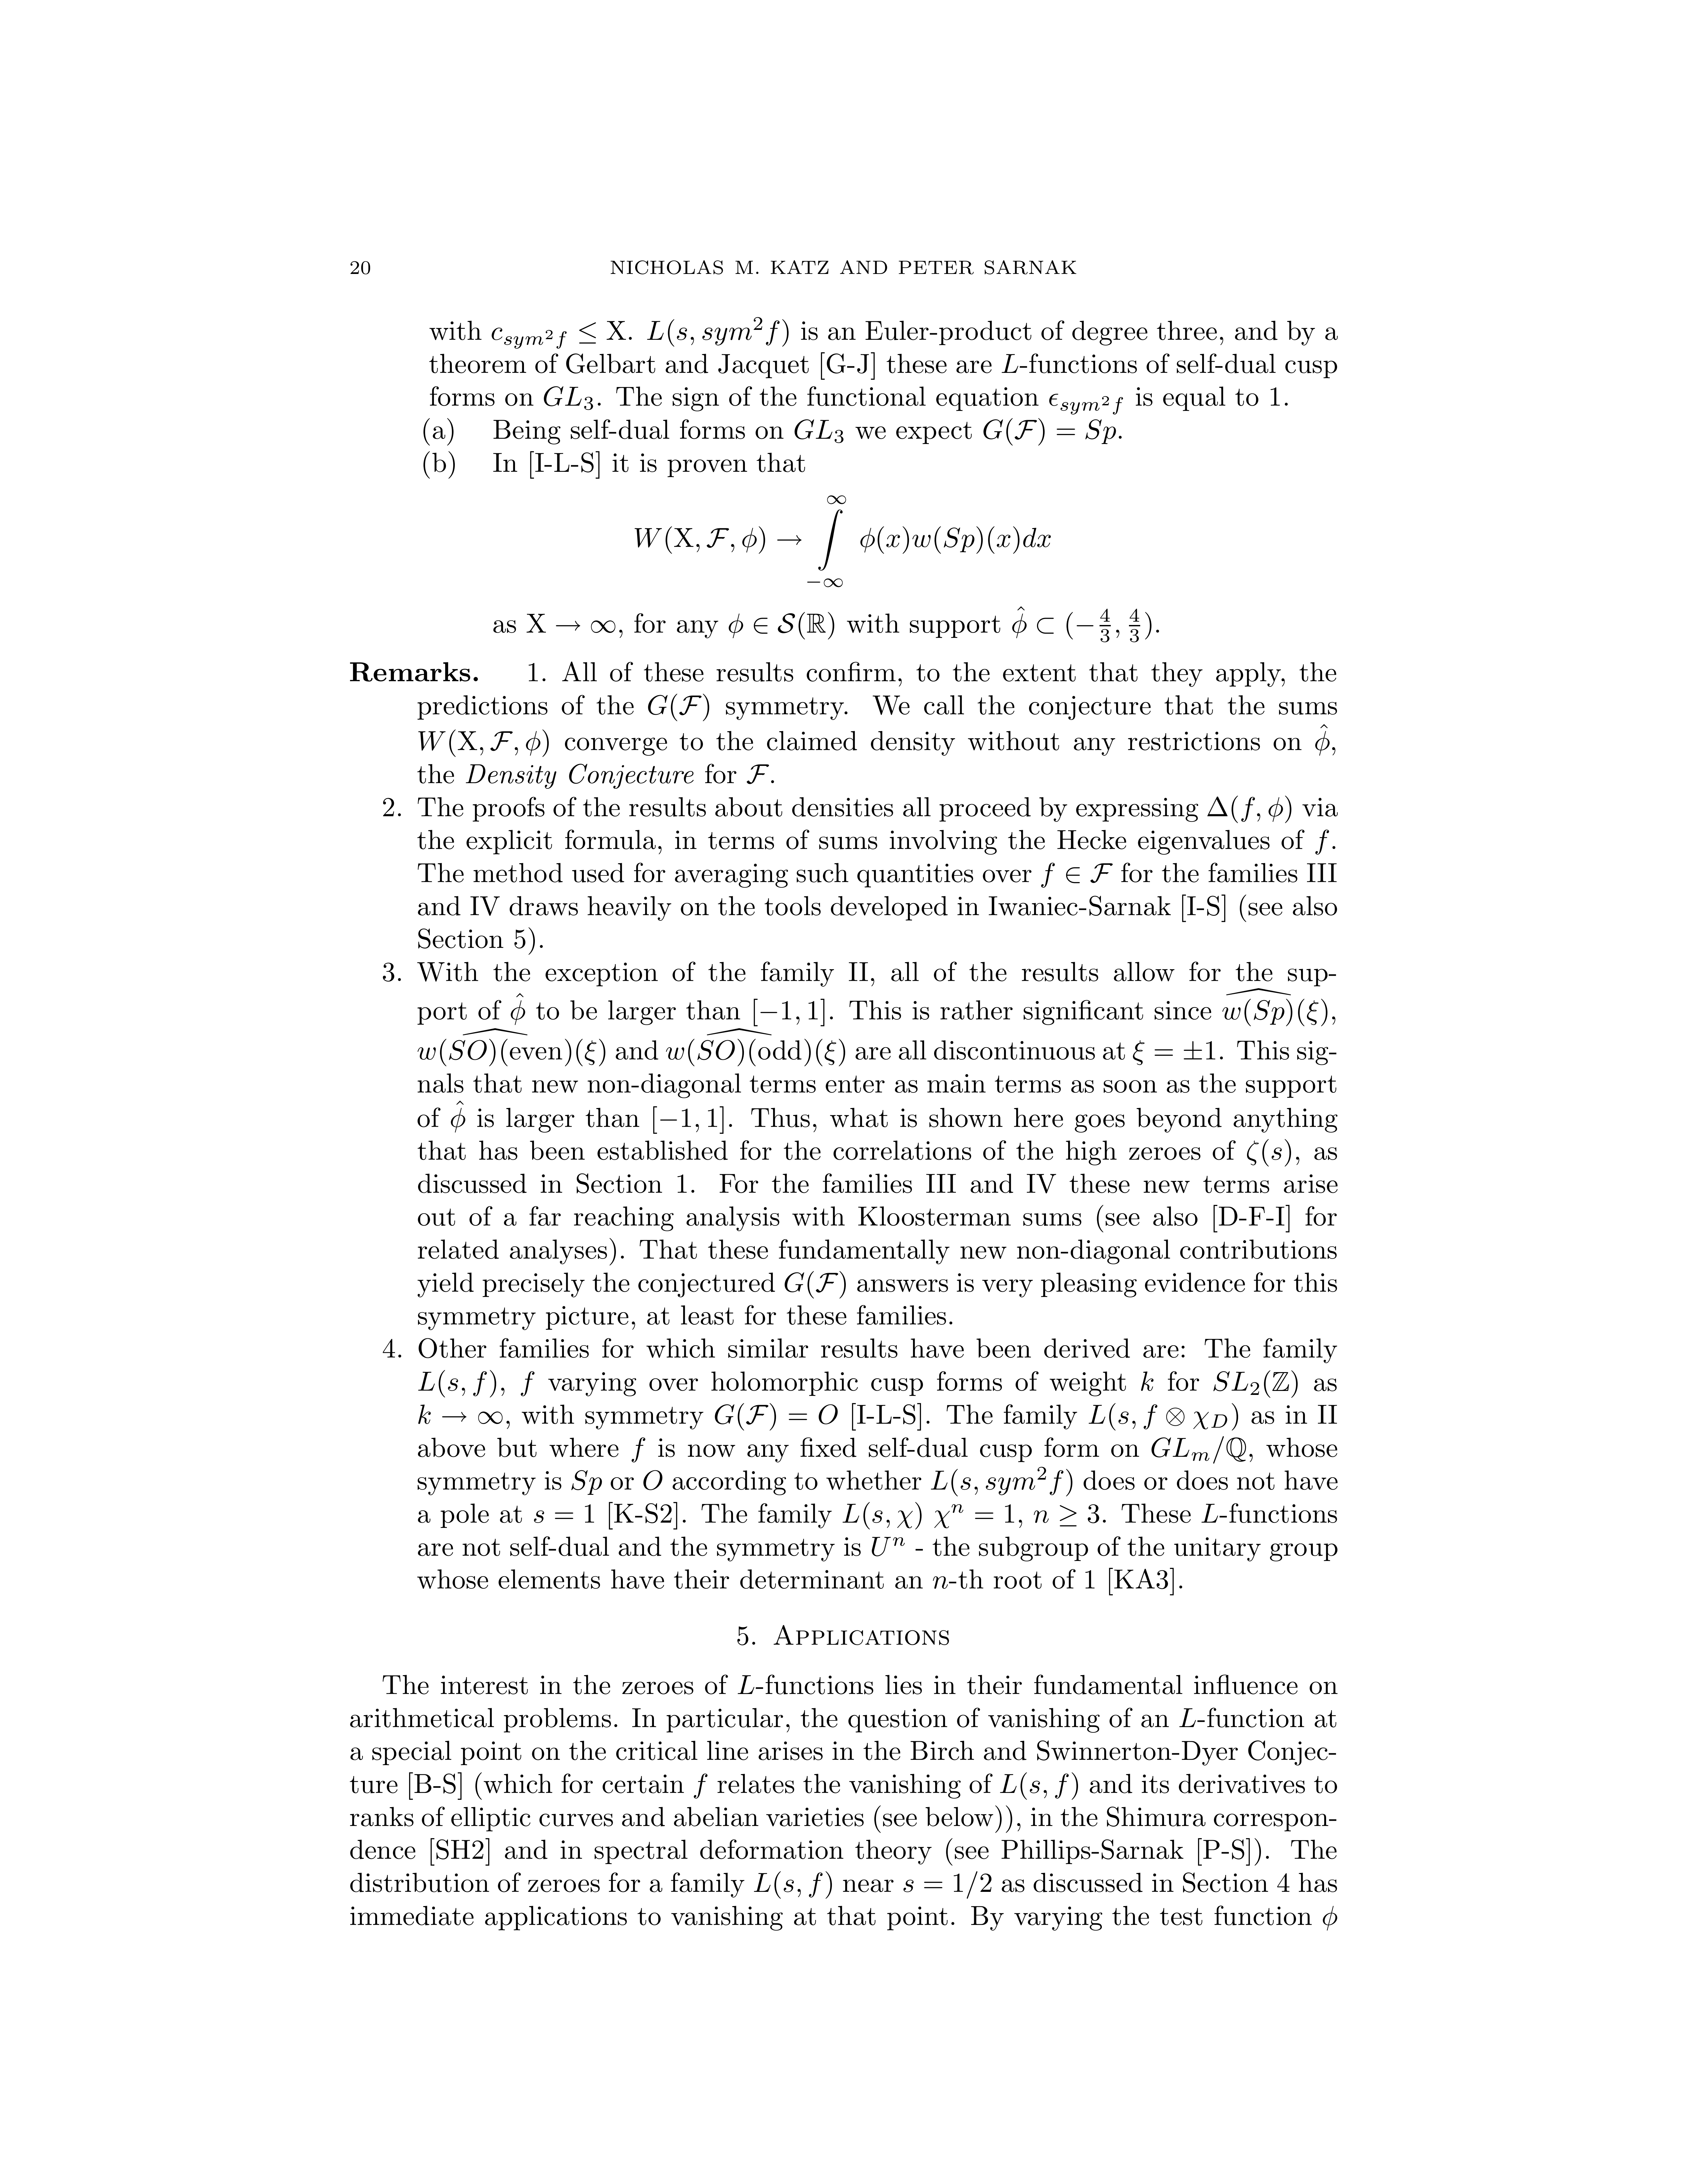maths: (634, 495, 1051, 587), (418, 1028, 604, 1065), (666, 1028, 845, 1065), (842, 1501, 1022, 1530), (1012, 606, 1152, 642), (930, 1466, 1072, 1496), (1223, 987, 1327, 1026), (647, 317, 789, 346), (1088, 1404, 1239, 1431), (491, 321, 626, 349), (983, 418, 1116, 445), (418, 730, 548, 757), (714, 1404, 836, 1431), (728, 612, 835, 640), (1152, 1436, 1246, 1464), (904, 1872, 991, 1899), (1207, 796, 1292, 823), (418, 1370, 503, 1397), (1214, 1370, 1297, 1397), (999, 1773, 1077, 1799), (753, 1872, 831, 1899), (1132, 1041, 1216, 1065), (753, 998, 824, 1026), (654, 1106, 723, 1133), (1040, 863, 1113, 888), (526, 613, 615, 633), (649, 693, 709, 721), (418, 1404, 501, 1423), (785, 1271, 845, 1298), (1049, 394, 1123, 415), (1035, 1505, 1099, 1526), (794, 418, 844, 443), (544, 386, 594, 409), (1248, 1140, 1290, 1166), (533, 1505, 594, 1523), (571, 1470, 602, 1494), (872, 1537, 904, 1556), (510, 993, 525, 1025), (746, 764, 769, 784), (1315, 725, 1329, 755), (1322, 1906, 1338, 1930), (643, 1470, 663, 1489), (1315, 830, 1329, 854), (631, 1438, 645, 1462), (693, 1774, 707, 1798), (1178, 1709, 1196, 1727), (1201, 1503, 1217, 1523), (521, 1372, 533, 1395), (1001, 355, 1017, 372), (737, 1675, 753, 1693), (1141, 1372, 1154, 1390), (934, 1576, 948, 1588)
